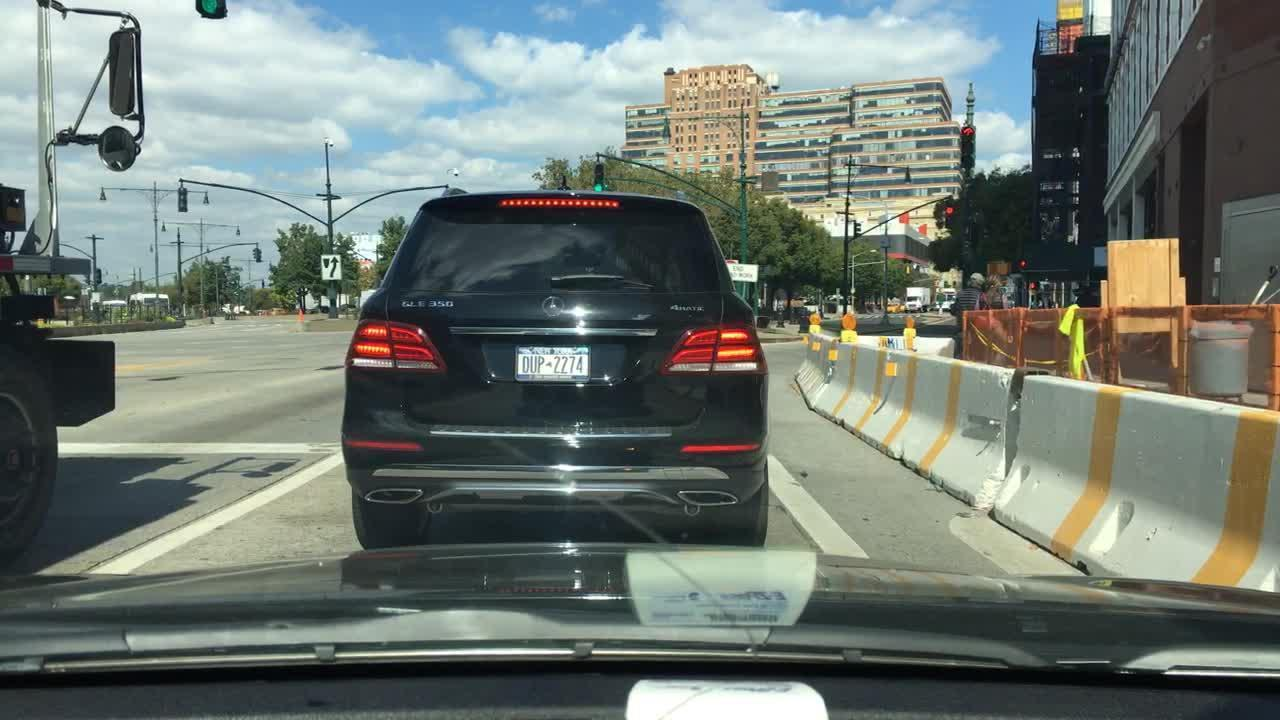Mercedes: (535, 293, 569, 324)
